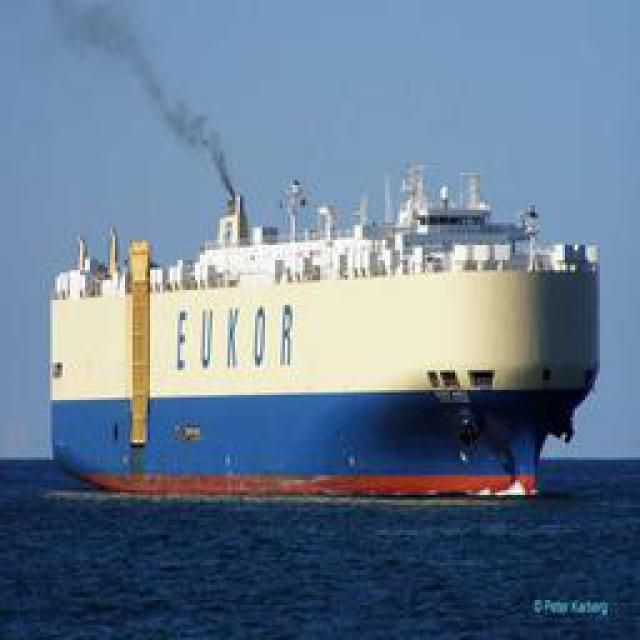Ship: (49, 145, 602, 490)
